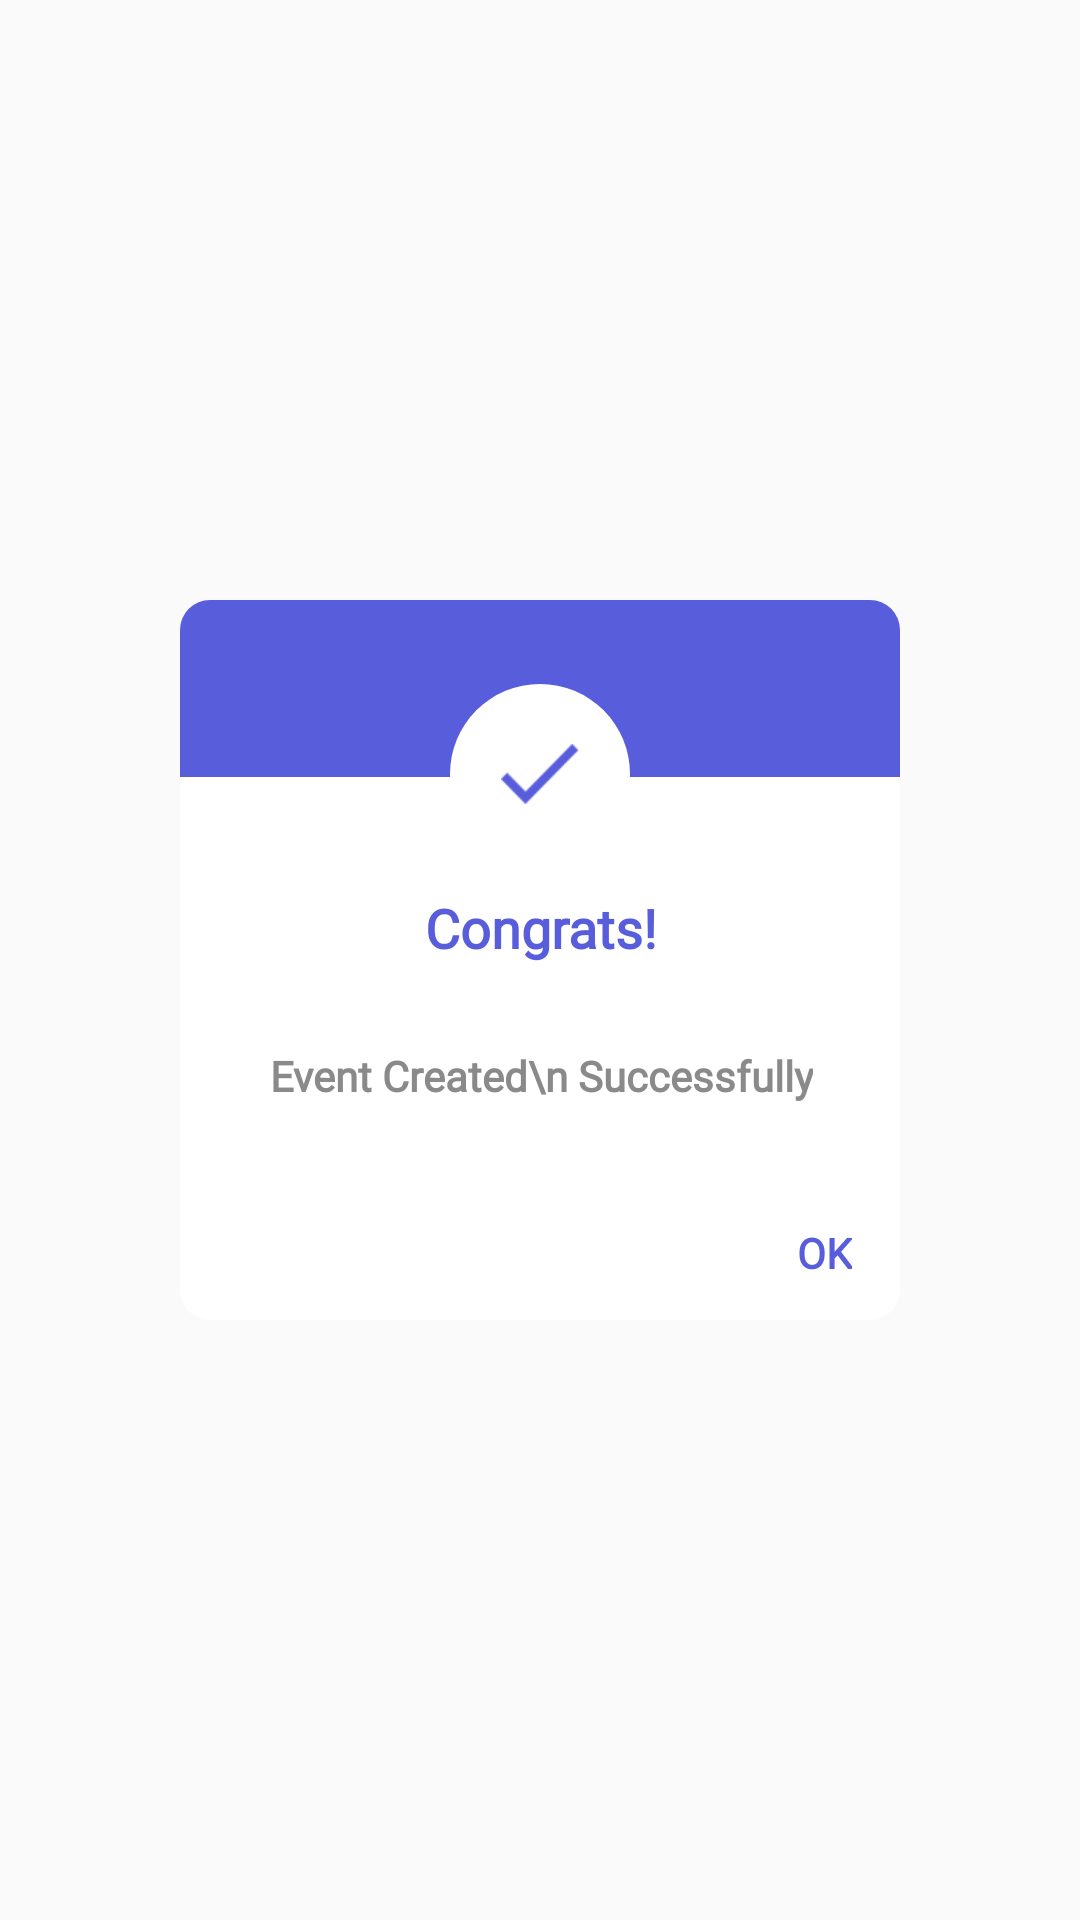

Named icons in this screenshot (1080x1920) and their centers, (x=x, y=y):
success imgview: (x=540, y=774)
